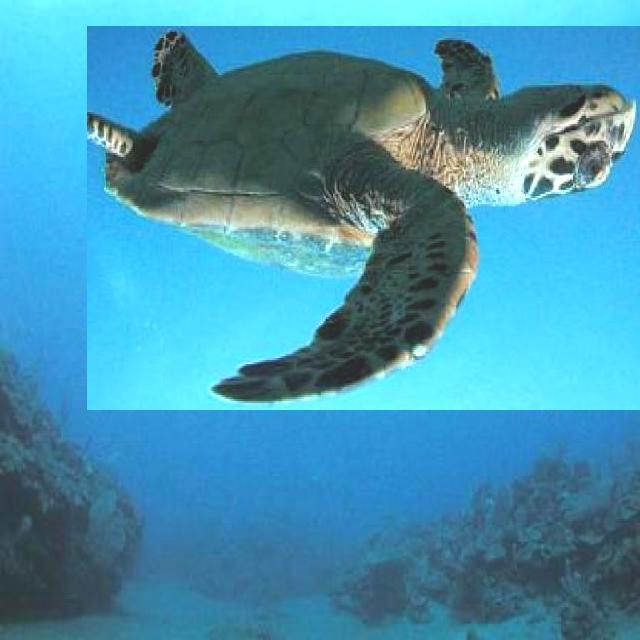Sea turtle: (87, 26, 640, 410)
